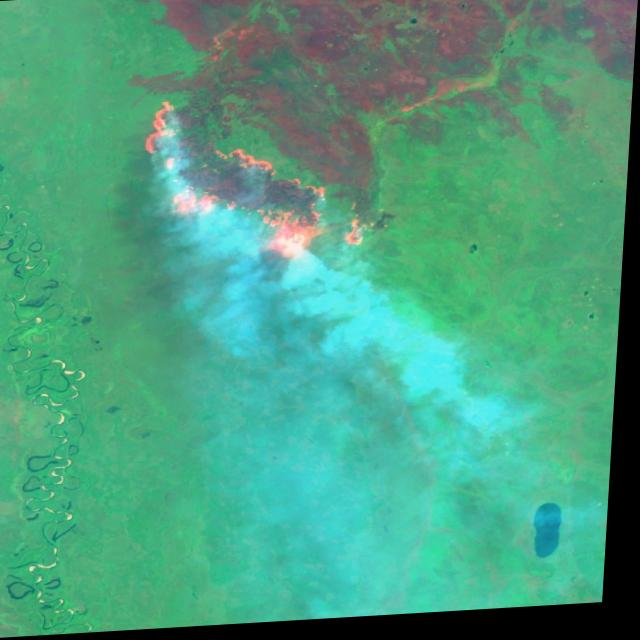fire: (128, 85, 383, 267)
